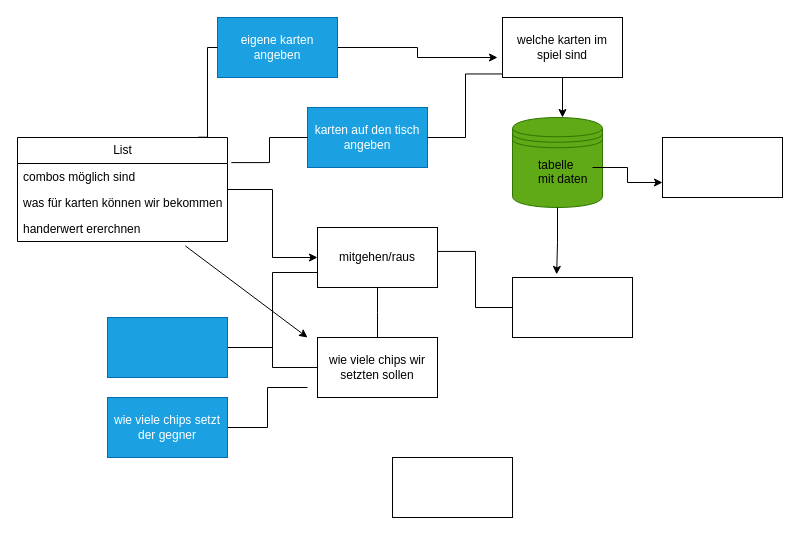
Some shapes in this 800 by 535 pixel diagram are drawn without their labels. Here are the shapes that lost their labels. From the top down, the centre of each, then its label:
point 722,167: daten synchroniesieren
point 572,307: erechnen ob der gegner blufft
point 167,347: wie viele chips wir haben
point 452,487: Organization
